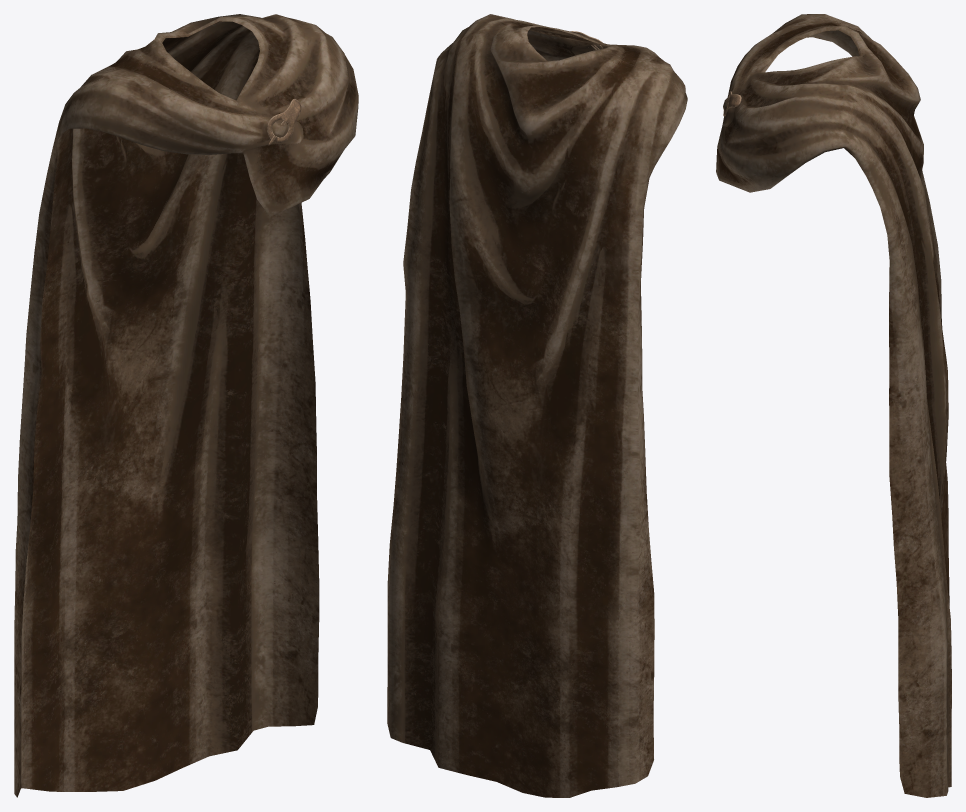
File: dunland_caerdh_cape_long_b.fbx
The picture shows the model from 3 angles, left to right: view 1: azimuth 30°, elevation 25°; view 2: azimuth 150°, elevation 25°; view 3: azimuth 270°, elevation 25°; orthographic projection. The views are drawn at different scales.
Visible parts, largest first — view 1: dunland_caerdh_cape_long_b; view 2: dunland_caerdh_cape_long_b; view 3: dunland_caerdh_cape_long_b.
Part boxes in pixels (bbox=[...]): dunland_caerdh_cape_long_b: bbox=[14, 14, 358, 797]; dunland_caerdh_cape_long_b: bbox=[387, 14, 687, 797]; dunland_caerdh_cape_long_b: bbox=[716, 14, 951, 797].
Bounding box in the file's own units: 0.6005 × 0.4599 × 1.55.
Materials: 1 (1 with a texture image).
